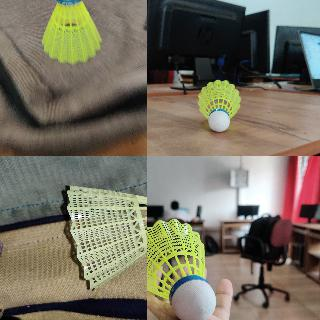shuttlecock: (66, 184, 146, 290), (147, 218, 216, 319), (39, 0, 101, 65), (198, 79, 240, 131)
